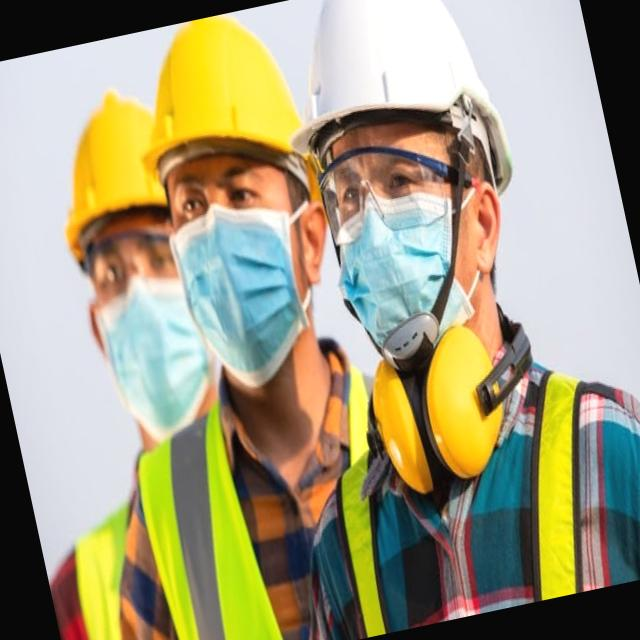goggles: (305, 120, 470, 260), (82, 227, 190, 307)
helmet: (128, 3, 310, 202), (279, 0, 497, 150), (30, 80, 188, 278)
no-goggles: (153, 150, 294, 240)
vest: (301, 334, 613, 640), (129, 365, 394, 640)
